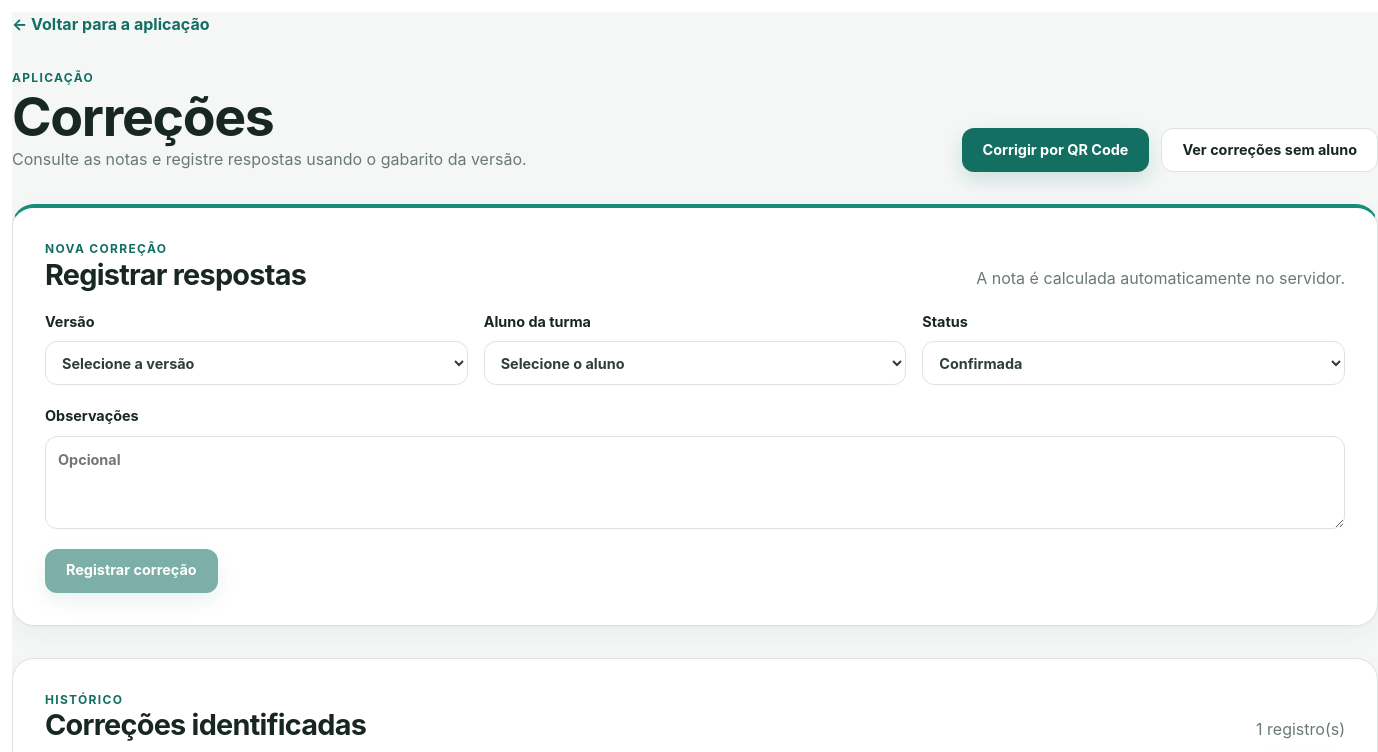
Test: tela de correcoes › encerra o carregamento quando a versao e limpa durante a requisicao
Select "Versão 1" in the dropdown with id "correction-version" at (256, 363), box [45,341,468,385]
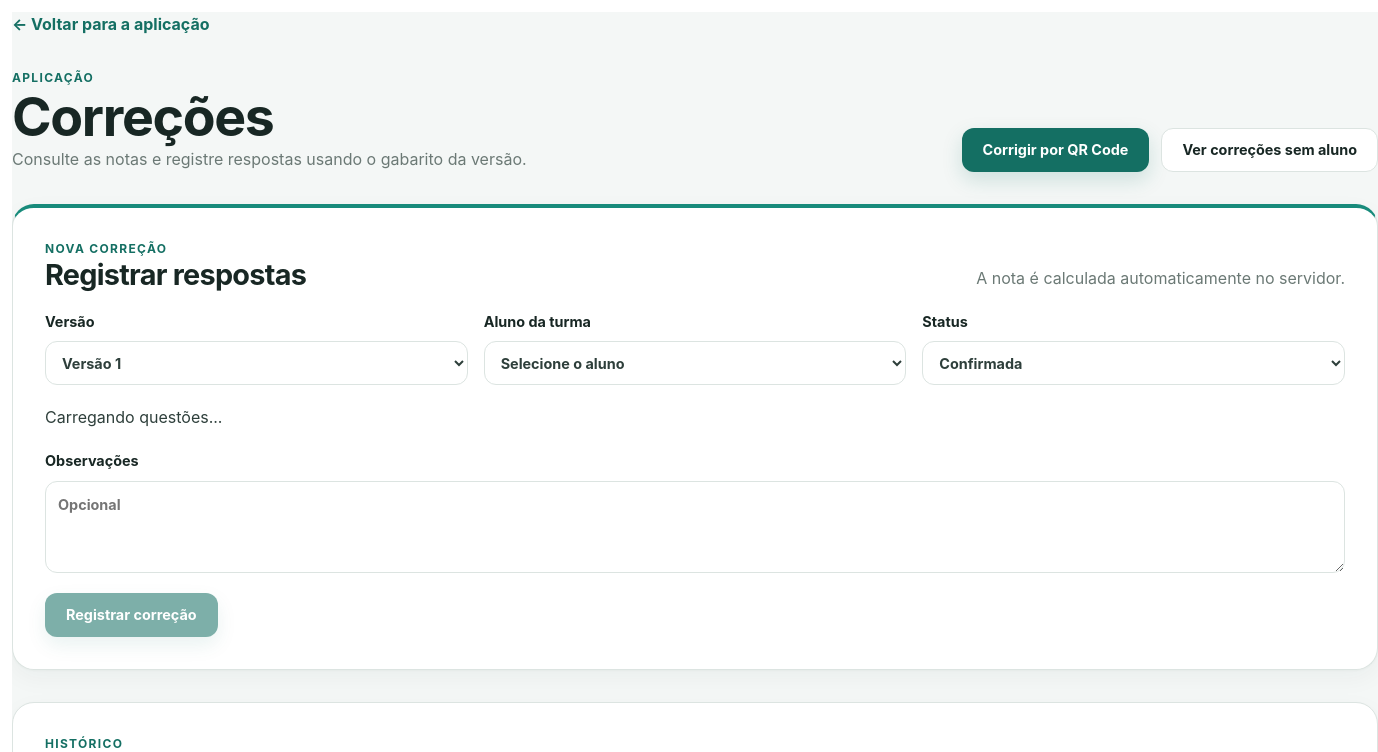
Now the text "Carregando questões" is shown, box [45,407,222,427]
Select "Selecione a versão" in the dropdown with id "correction-version" at (256, 363), box [45,341,468,385]
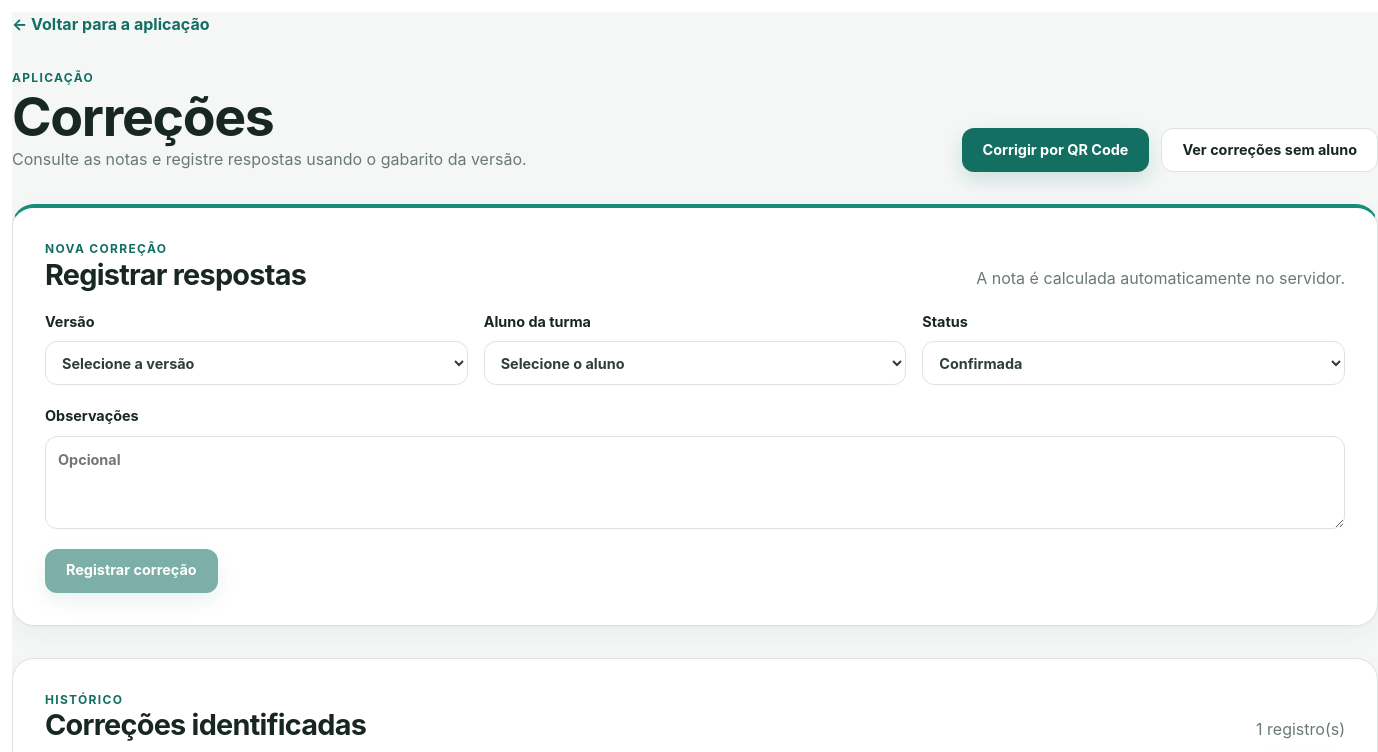
Now the text "Carregando questões" is gone
